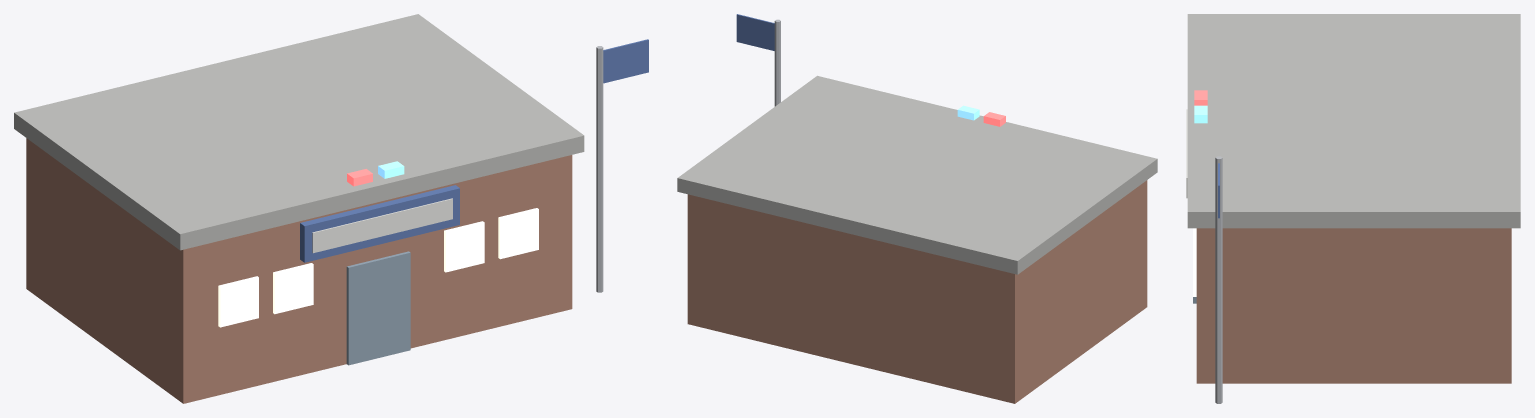
The model's file is police_station.glb.
3 renders of one model, left to right at view 1: azimuth 30°, elevation 25°; view 2: azimuth 150°, elevation 25°; view 3: azimuth 270°, elevation 25°, orthographic. The views are drawn at different scales.
Parts seen in each view (by area): view 1: police_station; view 2: police_station; view 3: police_station.
Part boxes in pixels (x1,y1,x2,y2): police_station: (14, 14, 648, 403); police_station: (677, 14, 1157, 403); police_station: (1186, 14, 1520, 403).
Bounding box in the file's own units: 12.45 × 6 × 7.43.
